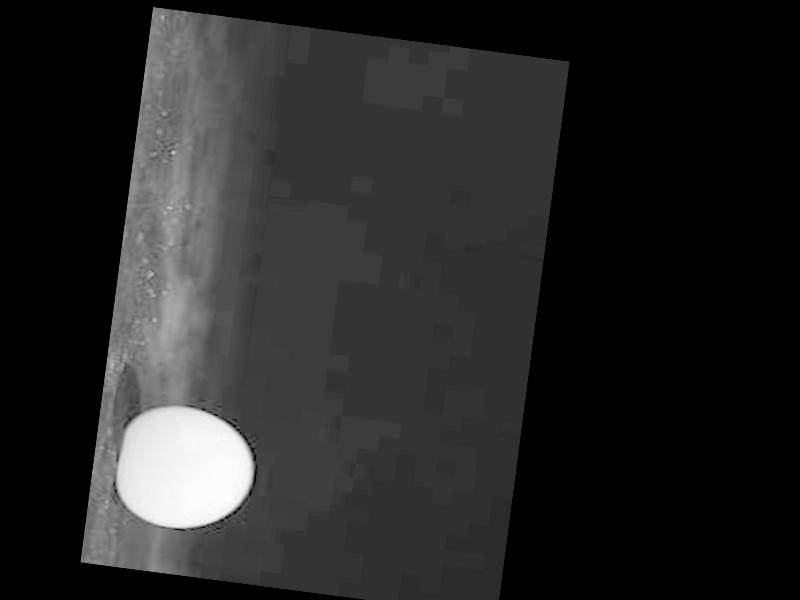Eggs: (113, 398, 260, 536)
